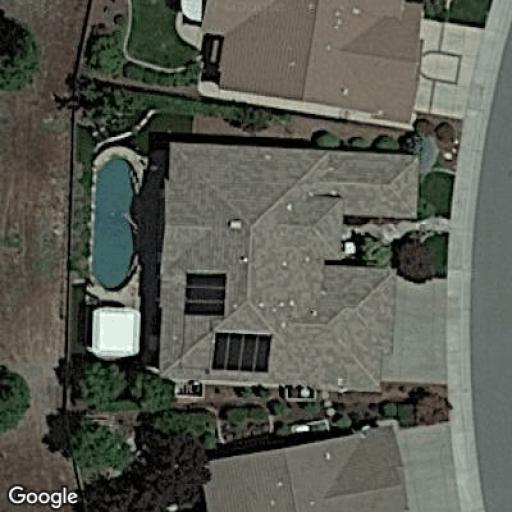solar-panel: (210, 331, 274, 373), (183, 269, 228, 319)
